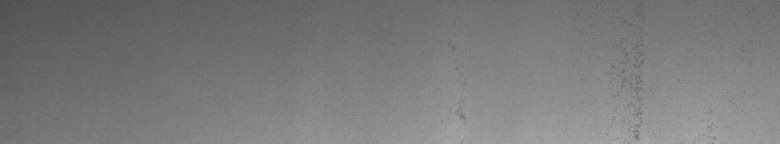ib: (621, 20, 714, 136)
